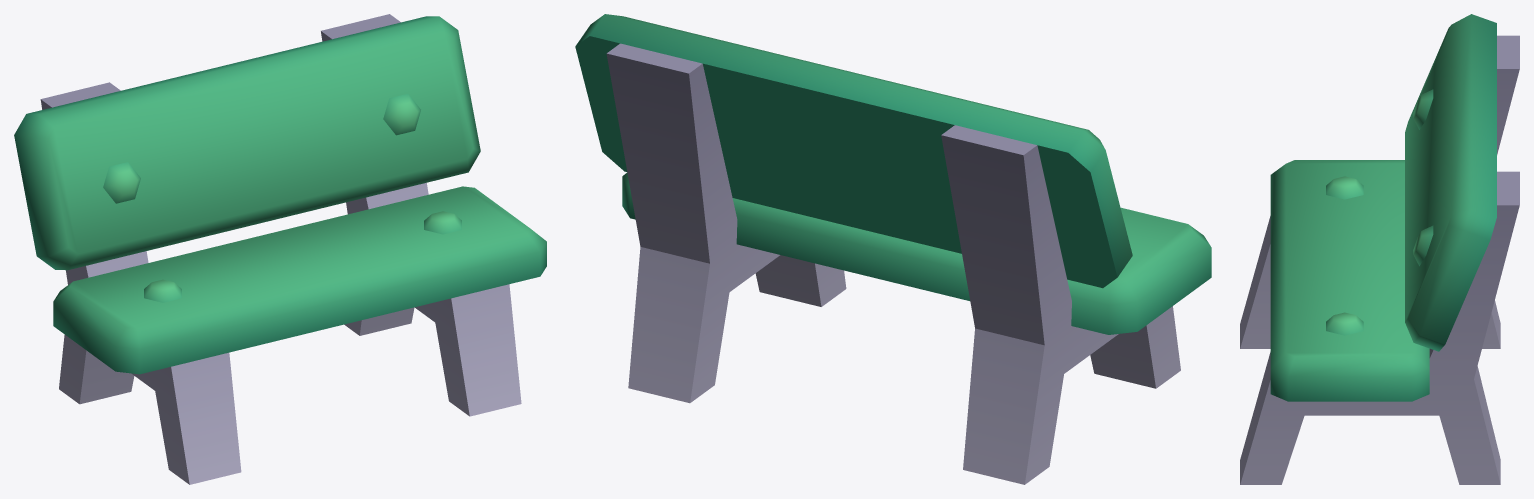
File: bench.fbx
3 views of the same model, side by side, from view 1: azimuth 30°, elevation 25°; view 2: azimuth 150°, elevation 25°; view 3: azimuth 270°, elevation 25° (orthographic). The views are drawn at different scales.
Parts seen in each view (by area): view 1: bench; view 2: bench; view 3: bench.
Part boxes in pixels (left/top/right/bottom): bench: left=14, top=14, right=546, bottom=484; bench: left=575, top=14, right=1211, bottom=484; bench: left=1240, top=14, right=1519, bottom=484.
Size of the model in its own units: 77.83 by 50.72 by 43.88.
1 material, 1 textured.
